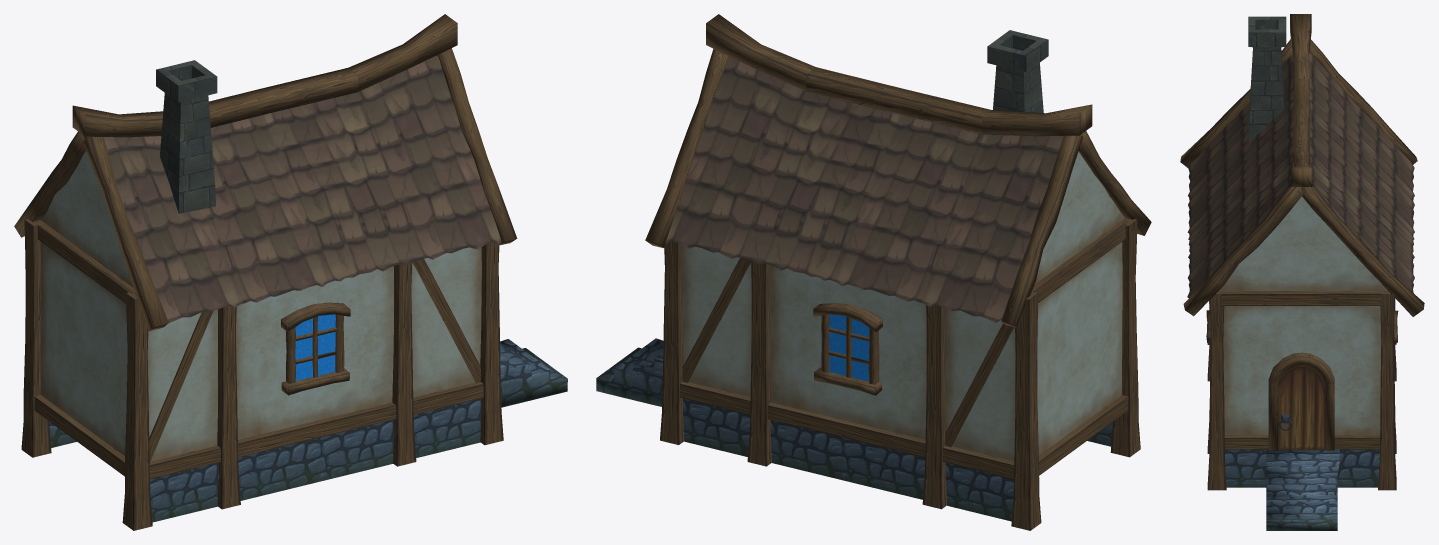
The model's file is house2.fbx.
3 views of the same model, side by side, from view 1: azimuth 30°, elevation 25°; view 2: azimuth 150°, elevation 25°; view 3: azimuth 270°, elevation 25° (orthographic). The views are drawn at different scales.
Visible parts, largest first — view 1: TopTileMidS.007; view 2: TopTileMidS.007; view 3: TopTileMidS.007.
Part boxes in pixels (x1,y1,x2,y2): TopTileMidS.007: (14,14,567,530); TopTileMidS.007: (596,14,1151,530); TopTileMidS.007: (1180,14,1424,530).
Size of the model in its own units: 1425 by 1193 by 757.
